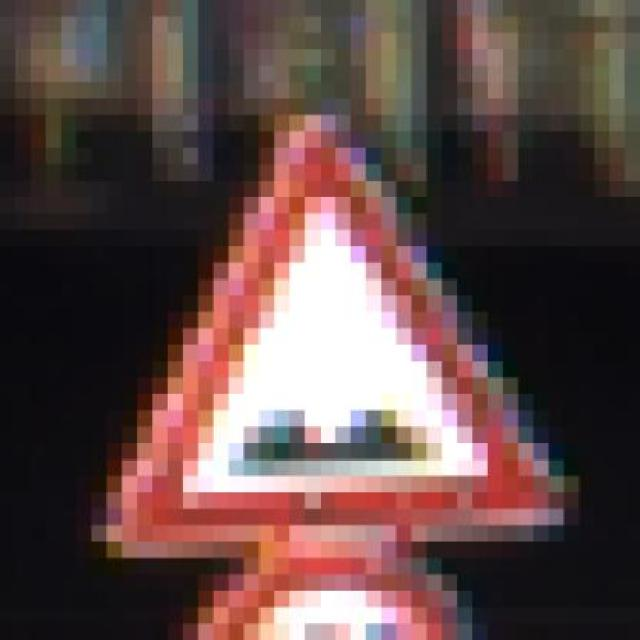Uneven Road: (76, 99, 595, 558)
